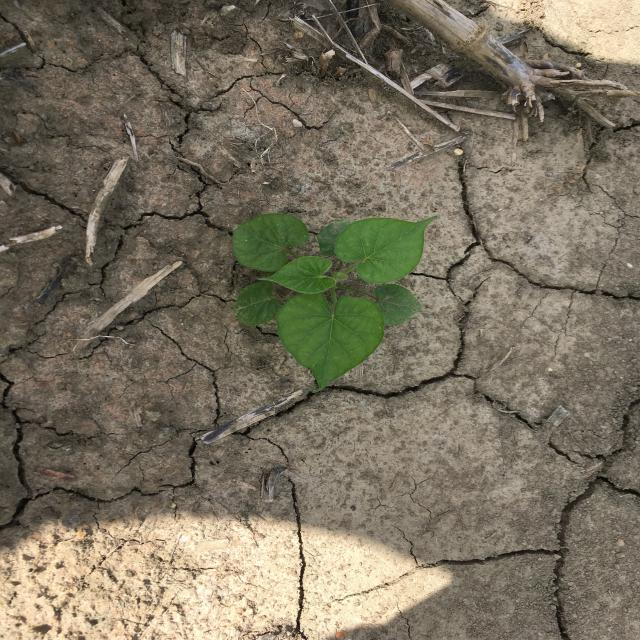MorningGlory: (232, 216, 438, 393)
